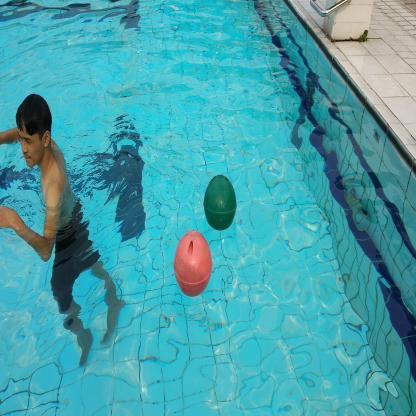green_buoy: (202, 166, 241, 234)
red_buoy: (171, 228, 214, 302)
